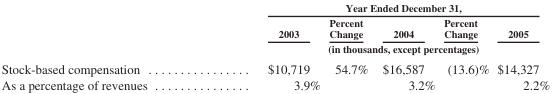table: (0, 1, 549, 91)
table column: (0, 1, 206, 91), (206, 1, 324, 91), (374, 1, 438, 91), (492, 1, 549, 91), (438, 1, 492, 91), (324, 1, 374, 91)
table column header: (0, 1, 549, 57)
table row: (0, 15, 549, 40), (0, 57, 549, 76), (0, 40, 549, 57), (0, 76, 549, 91), (0, 1, 549, 15)
table spanning cell: (206, 40, 549, 57), (206, 1, 549, 15)
